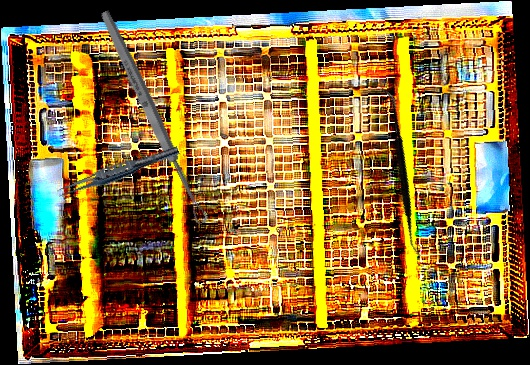Spatula Surgical: (318, 86, 484, 259)
Surgical Spoon: (97, 8, 210, 227)
Tissue Forceps: (55, 140, 181, 203)
